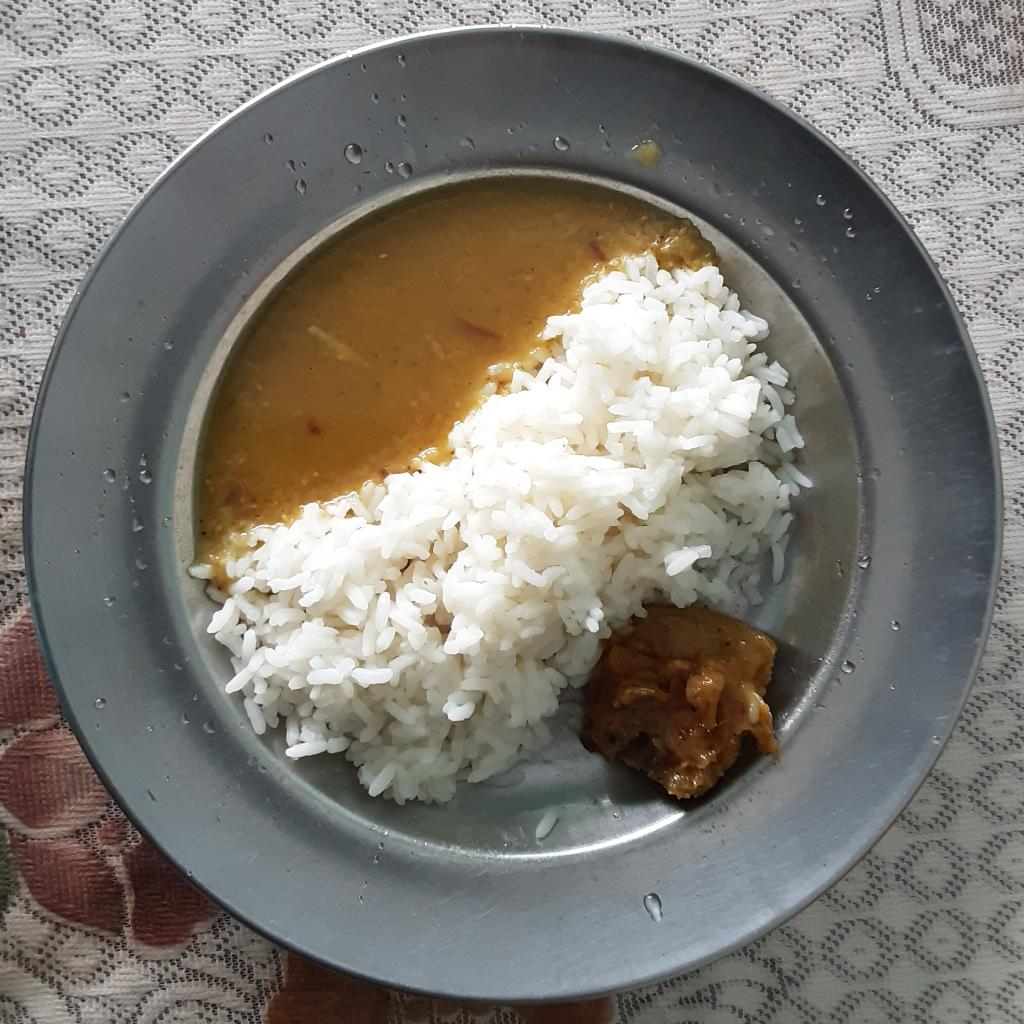daal: (189, 175, 719, 546)
rice: (186, 261, 813, 807)
vegetable: (577, 613, 780, 807)
